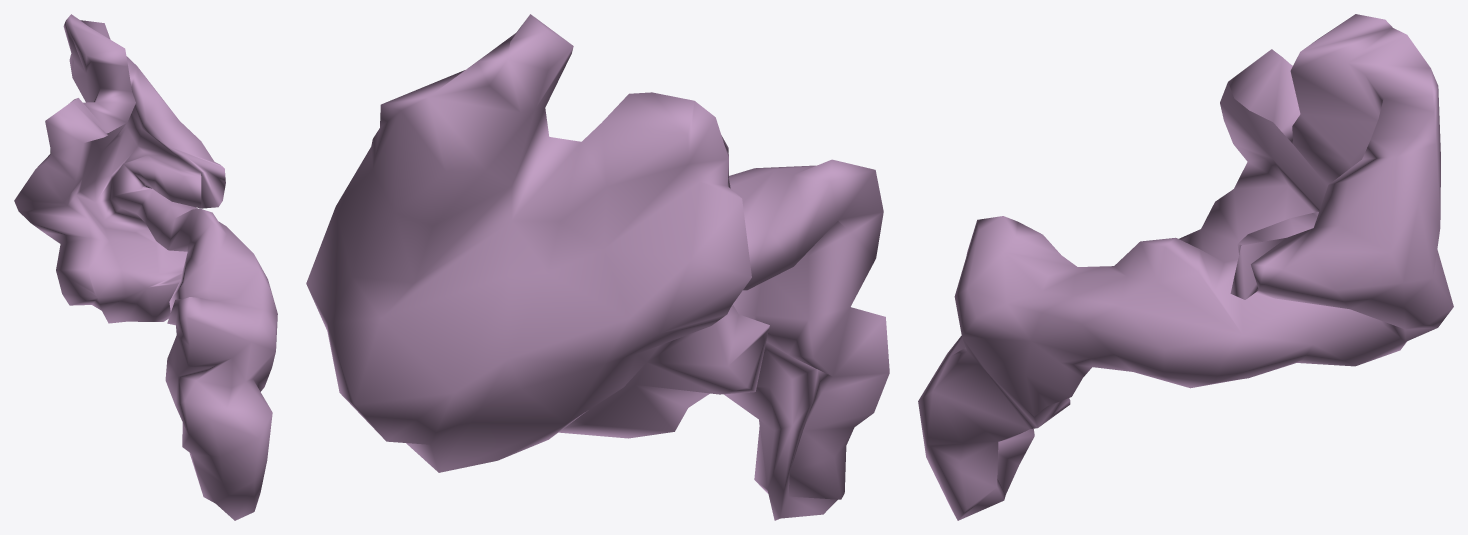
3 views of the same model, side by side, from view 1: azimuth 30°, elevation 25°; view 2: azimuth 150°, elevation 25°; view 3: azimuth 270°, elevation 25° (orthographic). The views are drawn at different scales.
Visible parts, largest first — view 1: 左侧额下回岛盖部; view 2: 左侧额下回岛盖部; view 3: 左侧额下回岛盖部.
Boxes of the visible parts, x1,y1,x2,y2 form: 左侧额下回岛盖部: [14, 14, 277, 520]; 左侧额下回岛盖部: [306, 14, 889, 520]; 左侧额下回岛盖部: [918, 14, 1453, 520].
Bounding box in the file's own units: 0.0333 × 0.0587 × 0.0579.
